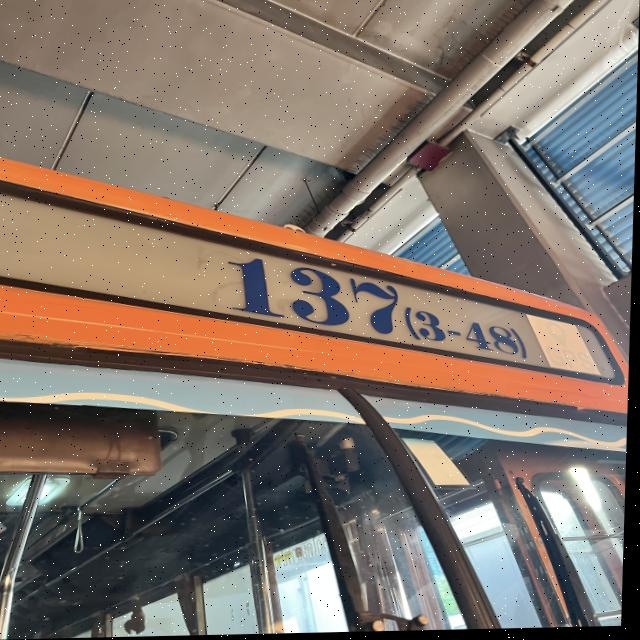BMTA-bus: (0, 142, 636, 640)
Bus-Line-Number: (207, 235, 547, 372)
